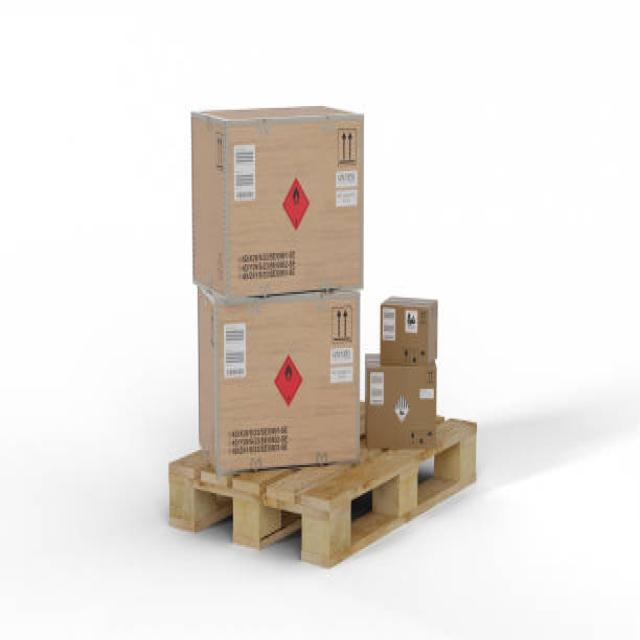Wooden-Pallets: (168, 418, 478, 571)
